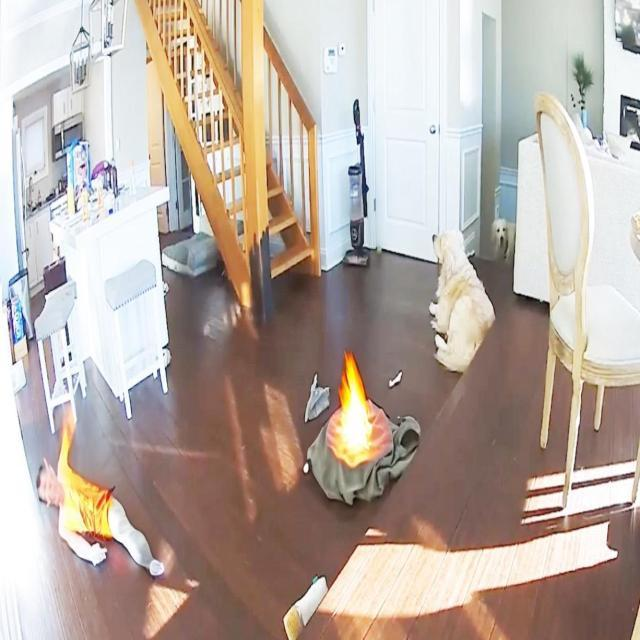smoke: (336, 348, 374, 461)
